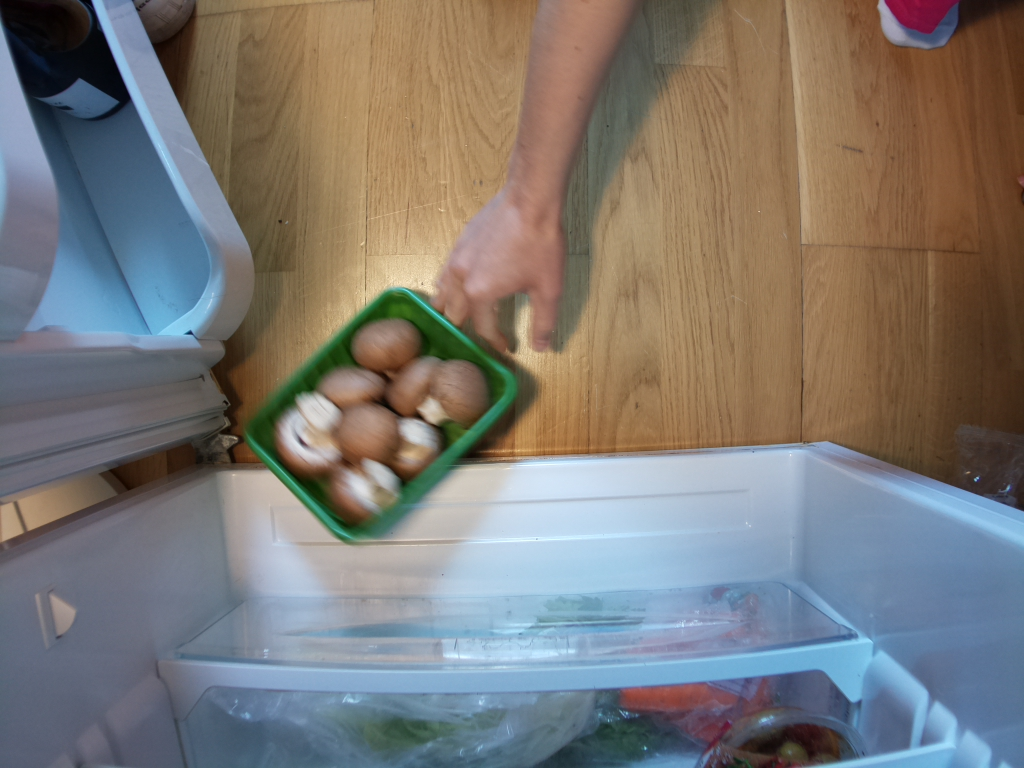mushrooms: (243, 290, 520, 544)
